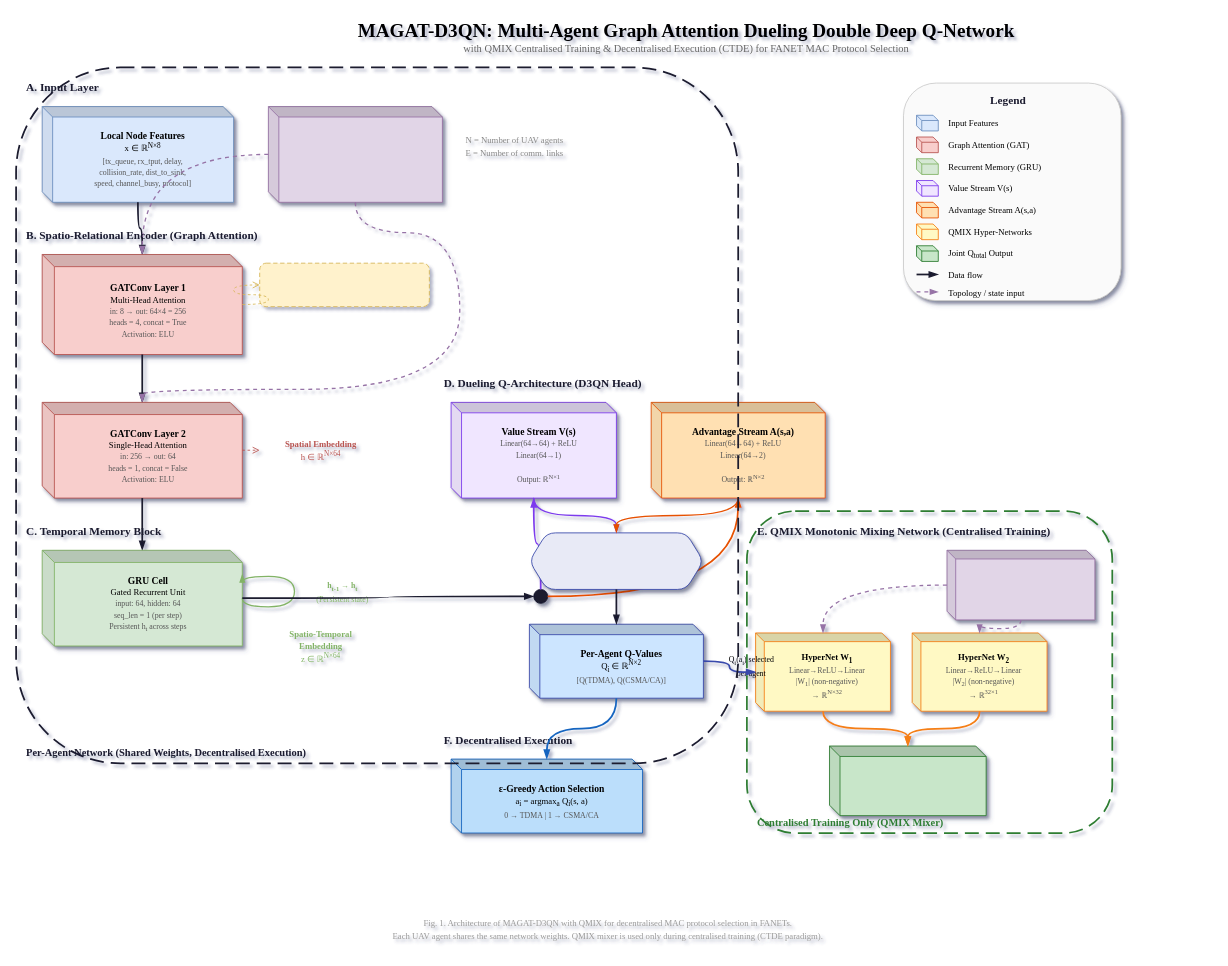
This 1228x966 diagram has some shape labels left out. Here are the shapes that lost their labels. From the top down, the centre of each, then its label:
[356,155]: Dynamic Edge Index edge_index ∈ ℤ 2×E Communication graph topology (SNR-based)
[344,284]: α ij (1) ∥ α ij (2) ∥ α ij (3) ∥ α ij (4) Concatenated 4-head attention
[617,562]: Q(s,a) = V(s) + [A(s,a) − mean(A)]
[1021,586]: Global State s Concatenated observations of all N agents
[908,782]: Q total = f(Q 1 , ..., Q N ; s) ∂Q tot /∂Q i ≥ 0
